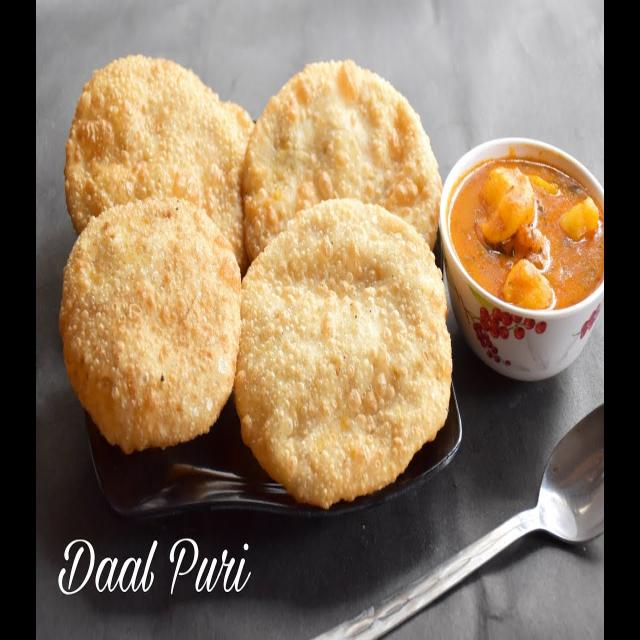CURRY: (450, 154, 604, 311)
POORI: (58, 49, 454, 513)
